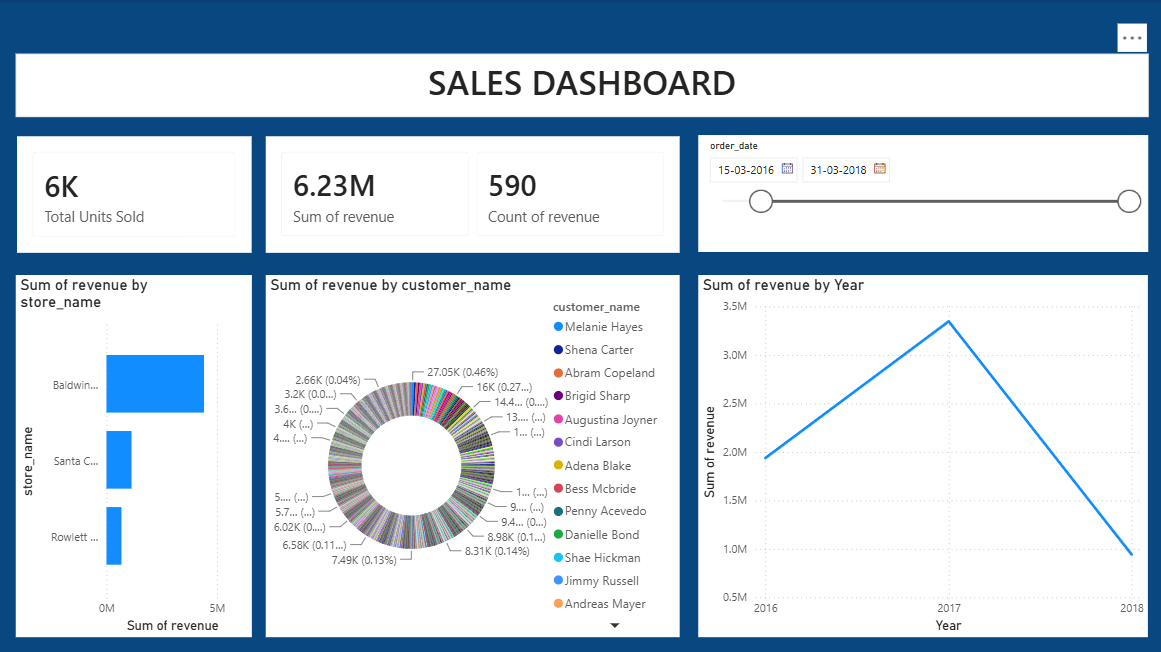

What the dashboard file says about the page in this screenshot:
{"tool":"powerbi","page":{"name":"Sales Dashboard","canvas":[1280,720],"ordinal":0},"visuals":[{"type":"cardVisual","fields":{"Data":["Sum(vw_sales_summary.revenue)","Count(vw_sales_summary.revenue)"]},"box":[295,149.6,454.2,127.6],"z":0},{"type":"clusteredBarChart","fields":{"Category":["vw_sales_summary.store_name"],"Y":["Sum(vw_sales_summary.revenue)"]},"box":[20.6,301.9,259.3,397.9],"z":2000},{"type":"donutChart","fields":{"Category":["vw_sales_summary.customer_name"],"Y":["Sum(vw_sales_summary.revenue)"]},"box":[295,301.9,454.2,397.9],"z":3000},{"type":"lineChart","fields":{"Category":["vw_sales_summary.order_date.Variation.Date Hierarchy.Year","vw_sales_summary.order_date.Variation.Date Hierarchy.Quarter","vw_sales_summary.order_date.Variation.Date Hierarchy.Month","vw_sales_summary.order_date.Variation.Date Hierarchy.Day"],"Y":["Sum(vw_sales_summary.revenue)"]},"box":[769.8,301.9,494,397.9],"z":4000},{"type":"slicer","fields":{"Values":["vw_sales_summary.order_date"]},"box":[769.8,148.2,494,127.6],"z":5000},{"type":"textbox","box":[20.6,59,1243.2,70],"z":6000},{"type":"cardVisual","fields":{"Data":["vw_sales_summary.Total Units Sold"]},"box":[21.4,149.7,258,128.3],"z":6001}]}

Visuals, with their boxes in screenshot pixels (x1, y1, x2, y2), scaled from the page's 1280x720 canvas onto the 1161x652 screenshot:
cardVisual - Sum(vw_sales_summary.revenue) x Count(vw_sales_summary.revenue): Rect(268, 135, 680, 251)
clusteredBarChart - vw_sales_summary.store_name x Sum(vw_sales_summary.revenue): Rect(19, 273, 254, 634)
donutChart - vw_sales_summary.customer_name x Sum(vw_sales_summary.revenue): Rect(268, 273, 680, 634)
lineChart - vw_sales_summary.order_date.Variation.Date Hierarchy.Year x vw_sales_summary.order_date.Variation.Date Hierarchy.Quarter: Rect(698, 273, 1146, 634)
slicer - vw_sales_summary.order_date: Rect(698, 134, 1146, 250)
textbox: Rect(19, 53, 1146, 117)
cardVisual - vw_sales_summary.Total Units Sold: Rect(19, 136, 253, 252)
